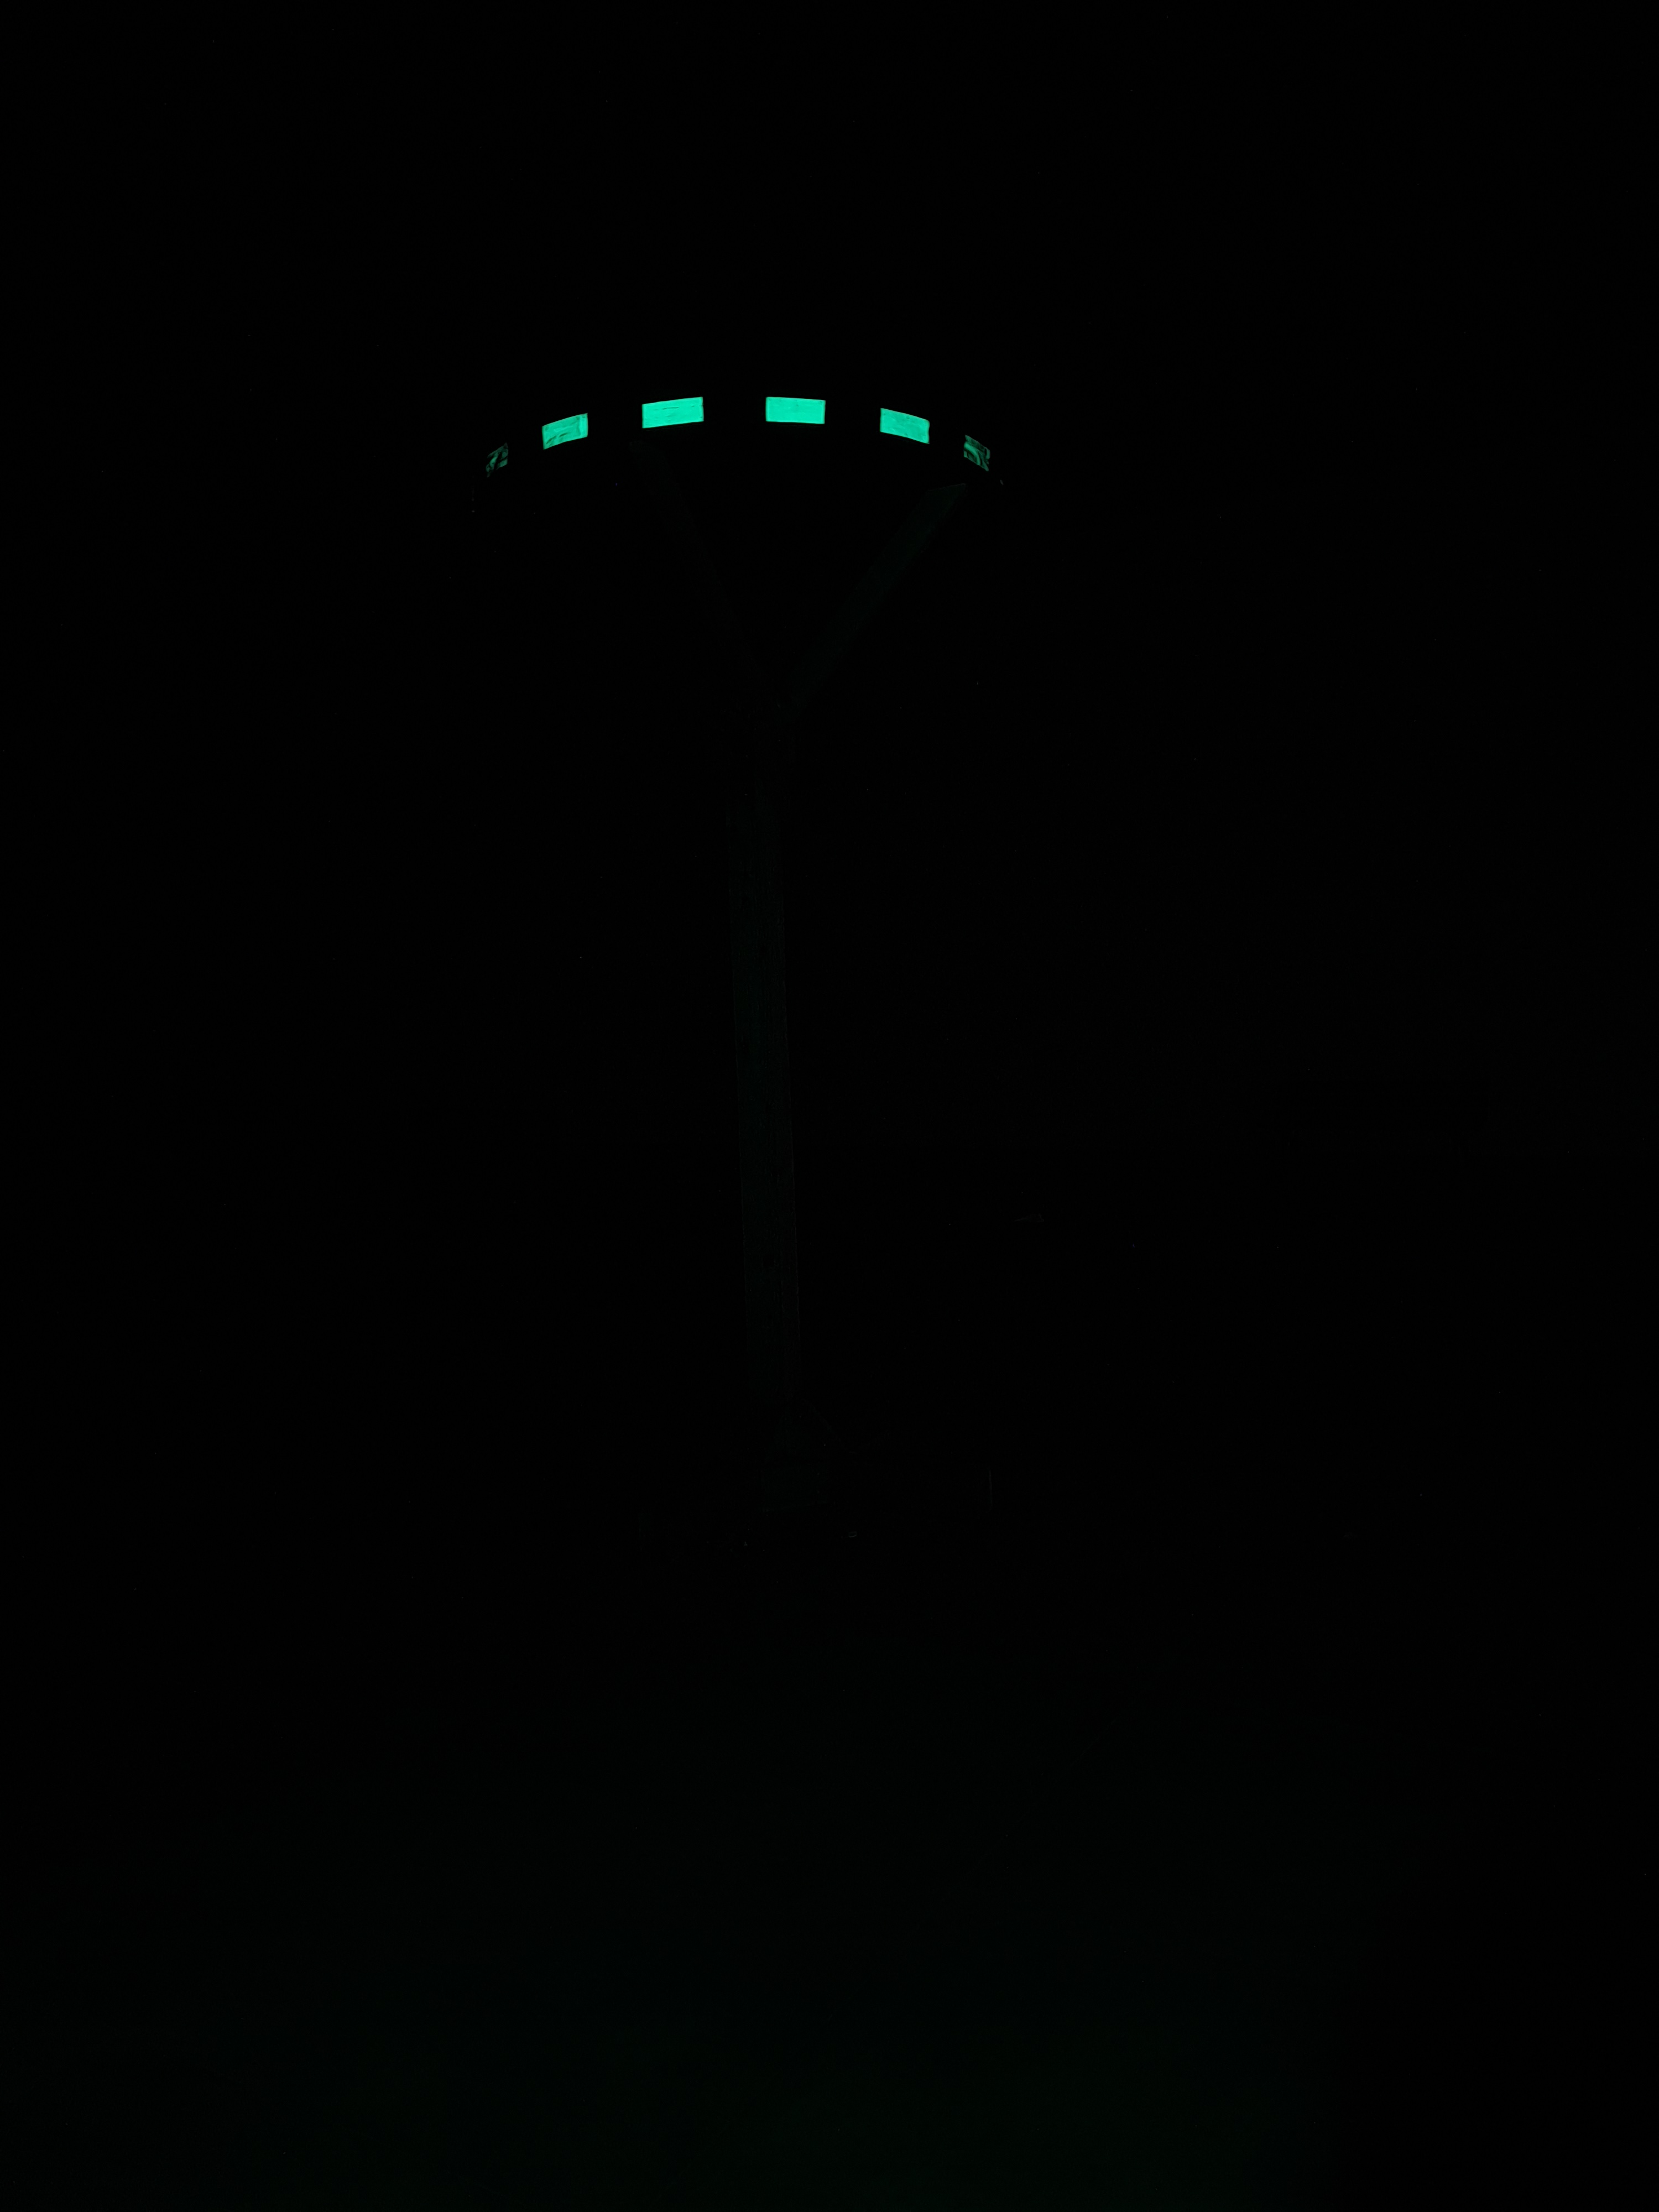hoop: (437, 381, 1018, 495)
